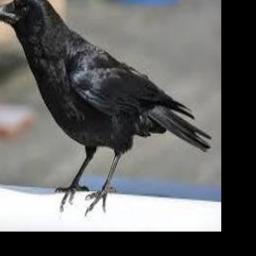Crow: (0, 0, 210, 211)
